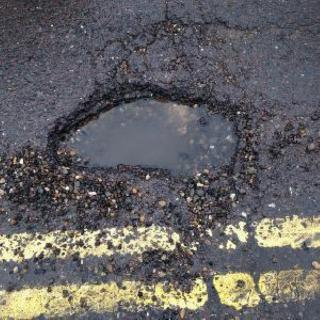pothole: (48, 81, 246, 188)
